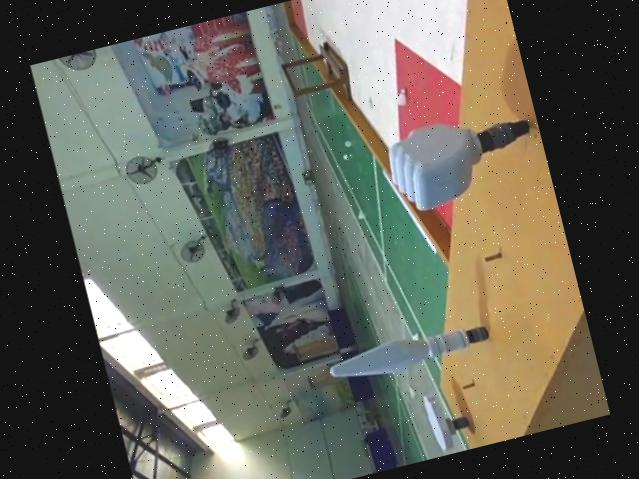Fist: (379, 101, 546, 218)
Hand: (421, 387, 475, 453)
Sph: (321, 314, 496, 396)
